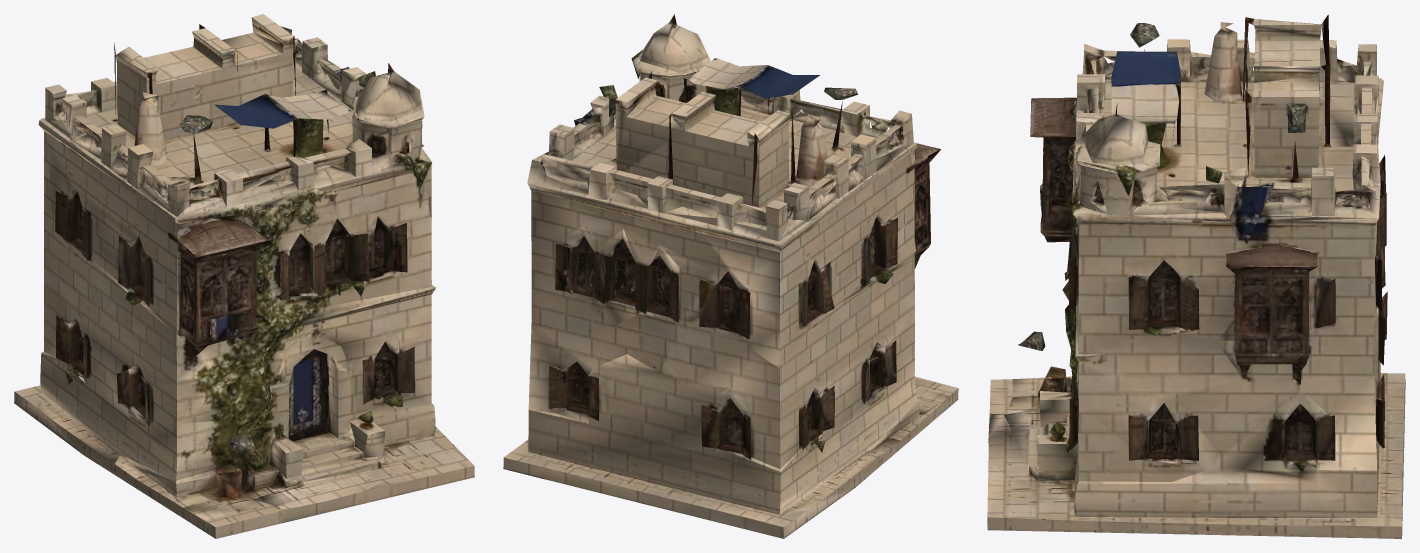
The model's file is house-2-lod2.glb.
3 renders of one model, left to right at view 1: azimuth 30°, elevation 25°; view 2: azimuth 150°, elevation 25°; view 3: azimuth 270°, elevation 25°, orthographic. The views are drawn at different scales.
Bounding box in the file's own units: 7.28 × 8.9 × 8.15.
Materials: 1 (1 with a texture image).
